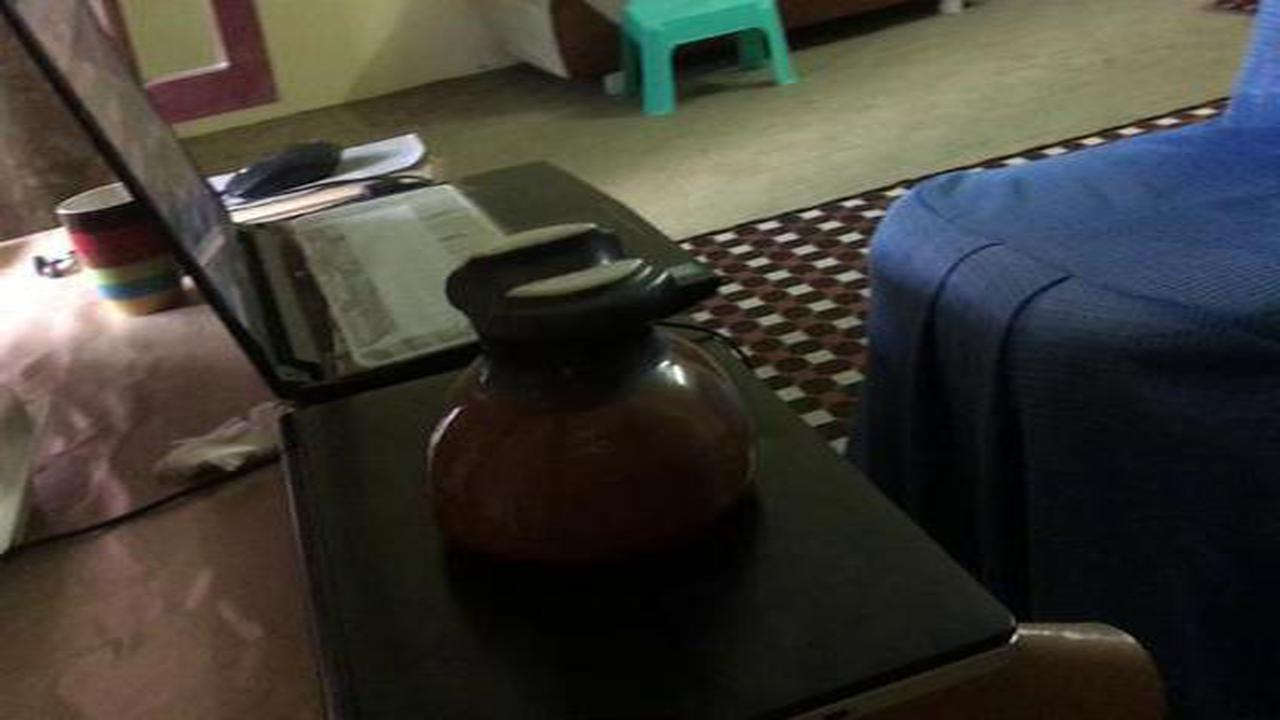insulator_pin: (412, 212, 776, 589)
